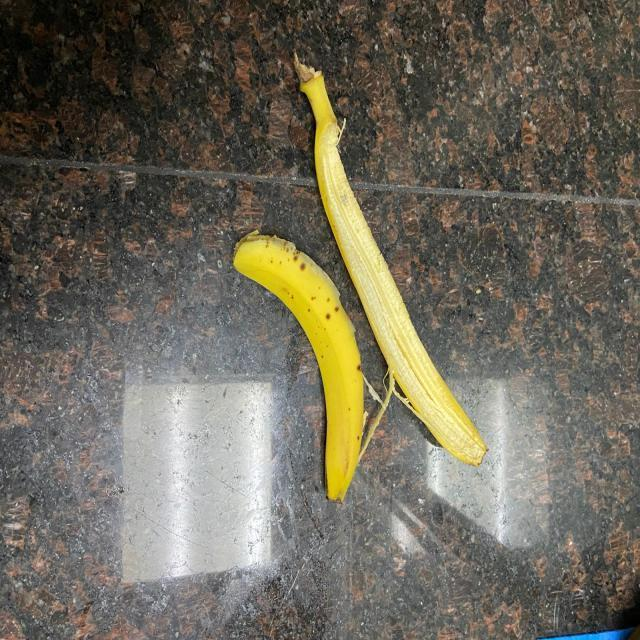banana-peel: (290, 51, 489, 467), (231, 228, 366, 503)
